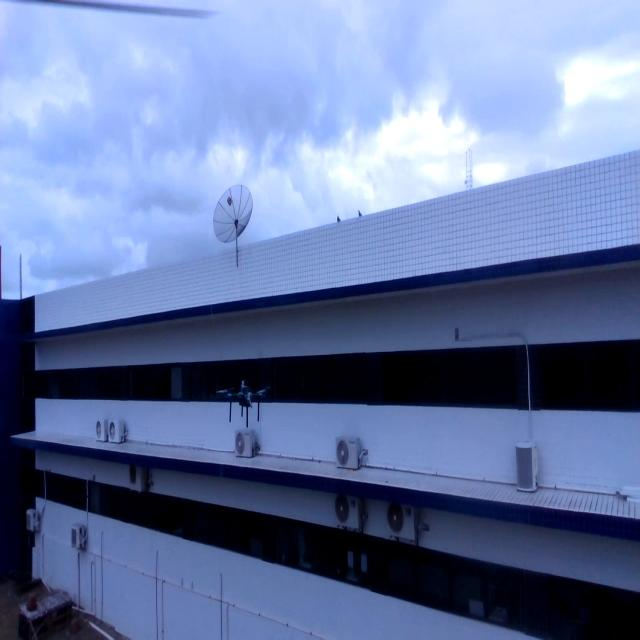-uav-: (214, 357, 271, 440)
